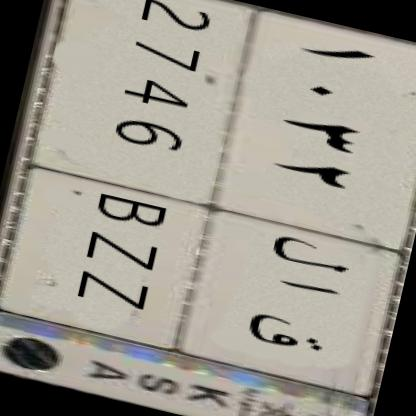english: (0, 0, 250, 373)
